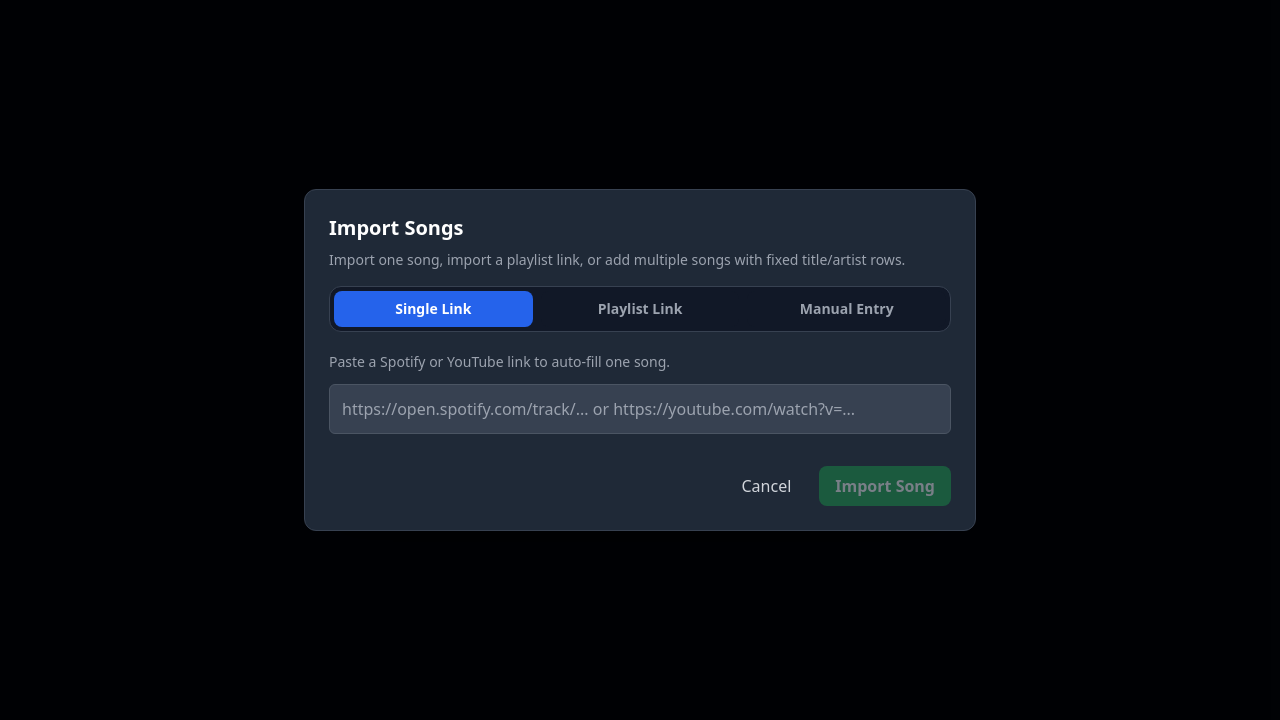
Test: ImportSongModal › shows an error when parsing fails
Type "bad-link" into the field.
click(640, 409); type("bad-link")  # box [329,384,951,434]
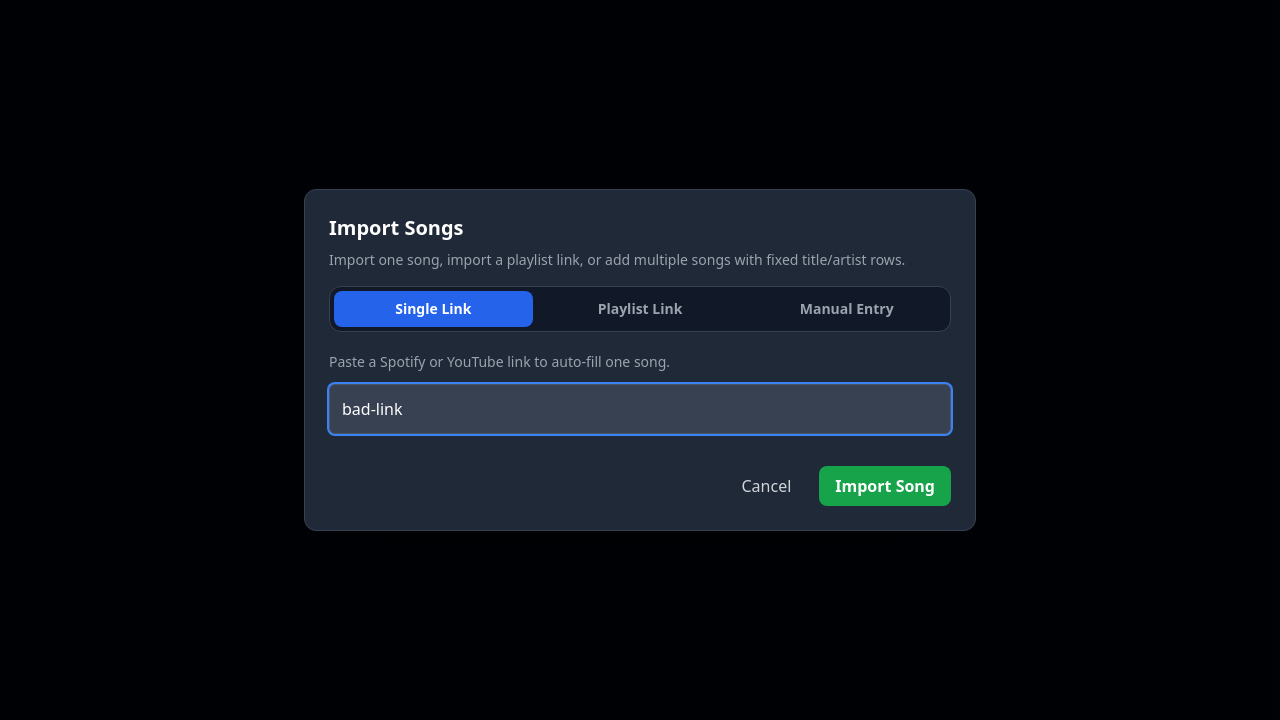
Click the button "Import Song".
click(885, 486)  # box [819,466,951,506]
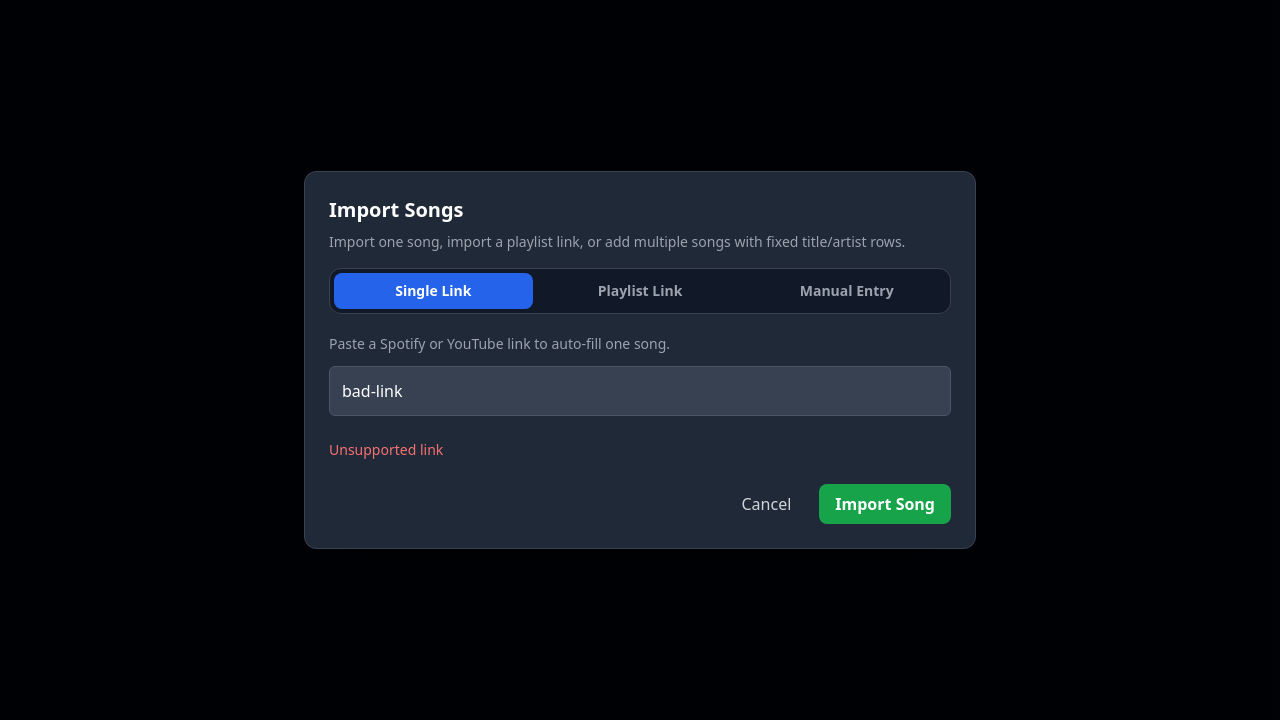
Expected: the text "Unsupported link" is shown, [329,440,443,459]
